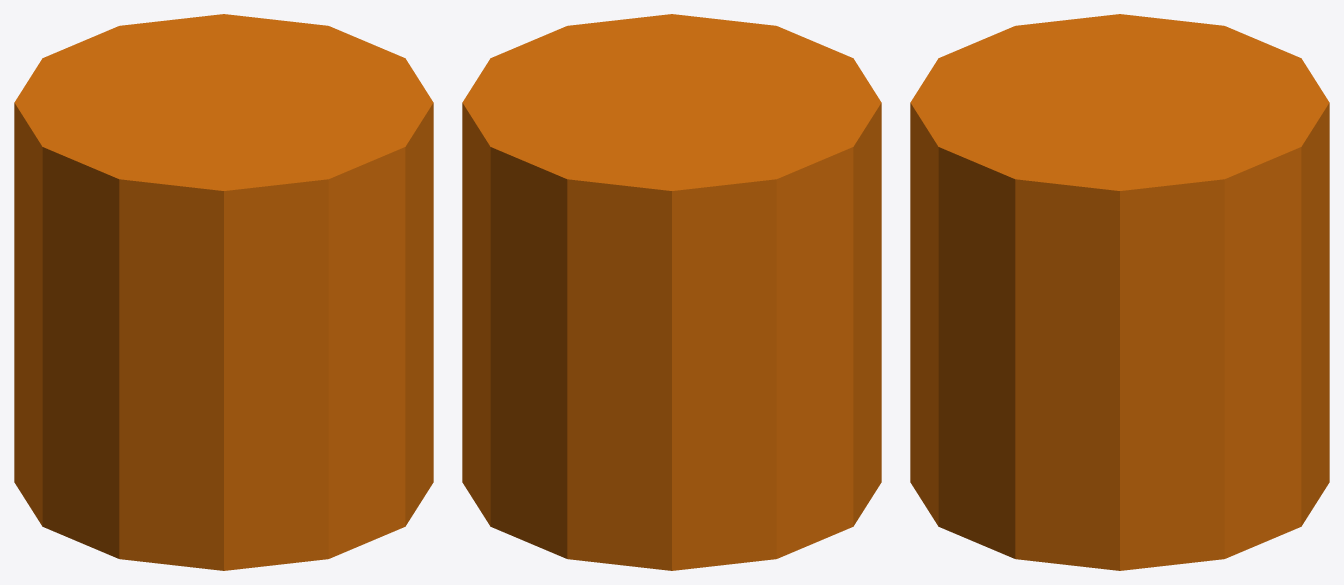
File: SM_Collectibles_Coin_001.obj
3 views of the same model, side by side, from view 1: azimuth 30°, elevation 25°; view 2: azimuth 150°, elevation 25°; view 3: azimuth 270°, elevation 25° (orthographic).
Visible parts, largest first — view 1: Inset; view 2: Inset; view 3: Inset.
Part boxes in pixels (x1,y1,x2,y2): Inset: [14, 14, 433, 570]; Inset: [462, 14, 881, 570]; Inset: [910, 14, 1329, 570].
Size of the model in its own units: 2 by 2 by 2.
